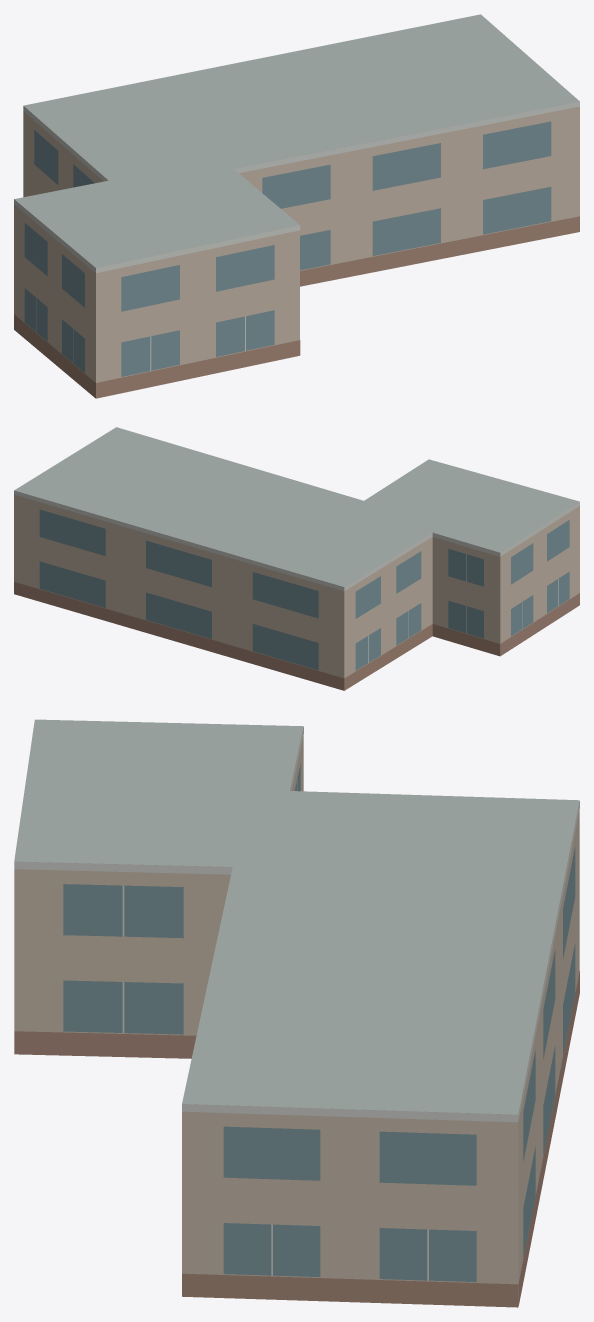
File: survey-upis-33045528.glb
The picture shows the model from 3 angles, top to bottom: view 1: azimuth 30°, elevation 25°; view 2: azimuth 150°, elevation 25°; view 3: azimuth 270°, elevation 25°; orthographic projection. The views are drawn at different scales.
Visible parts, largest first — view 1: survey-upis-33045528.tmp; view 2: survey-upis-33045528.tmp; view 3: survey-upis-33045528.tmp.
Part boxes in pixels (<box>): survey-upis-33045528.tmp: <box>14,14,579,398</box>; survey-upis-33045528.tmp: <box>14,427,579,690</box>; survey-upis-33045528.tmp: <box>14,719,579,1307</box>.
Bounding box in the file's own units: 26.83 × 6.1 × 16.23.
